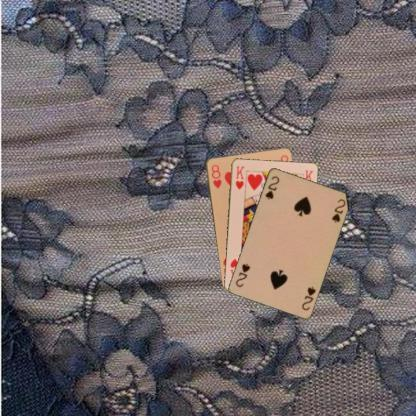2s: (262, 173, 280, 201), (299, 284, 317, 311)
8h: (208, 162, 223, 190)
Kh: (233, 163, 245, 191)
